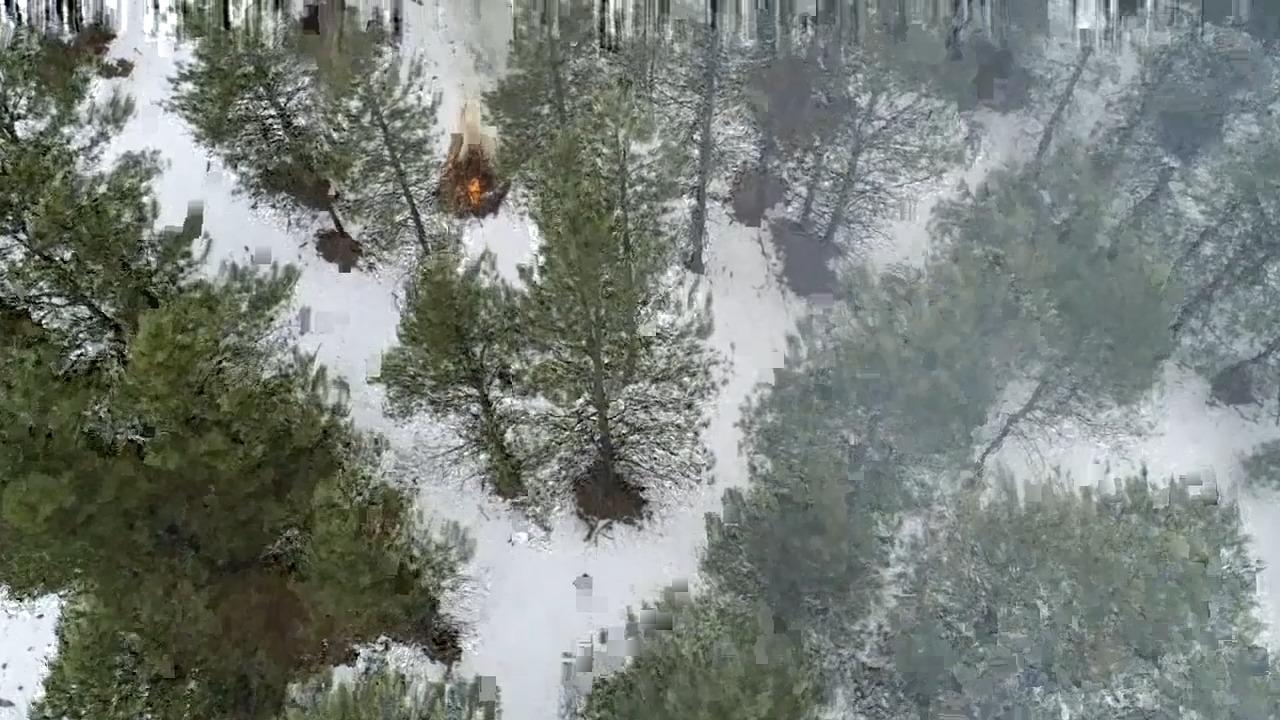fire: (455, 154, 490, 196)
